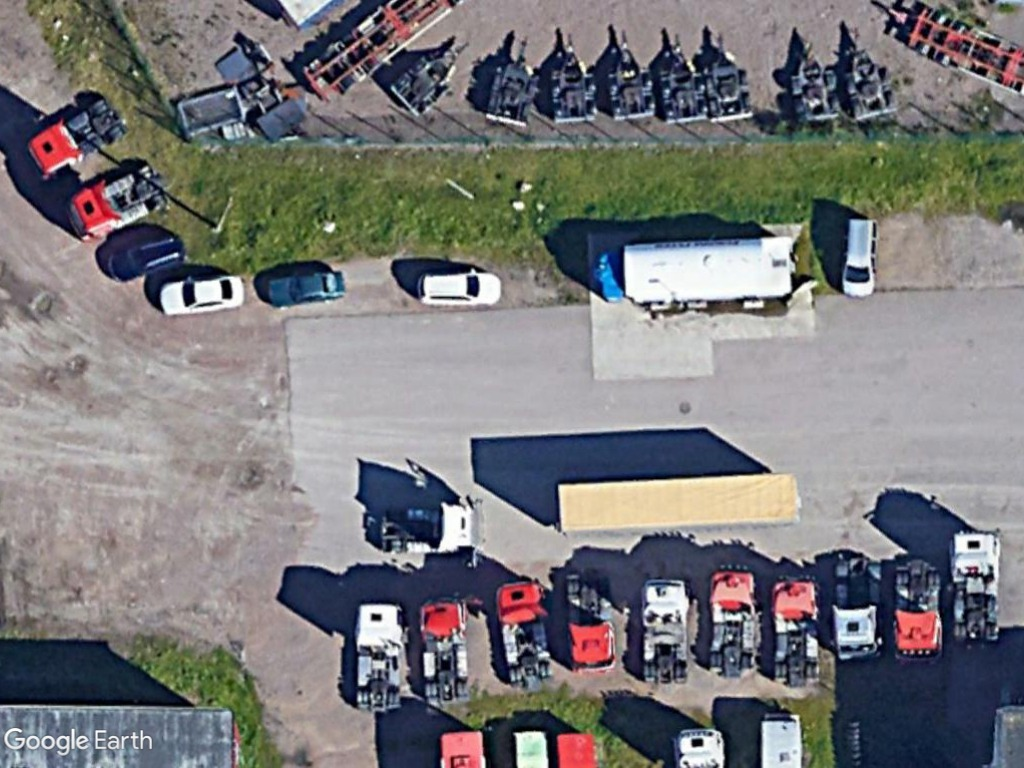car: (104, 229, 188, 288), (155, 270, 248, 319), (837, 215, 884, 300), (416, 268, 505, 310), (262, 266, 346, 310)
